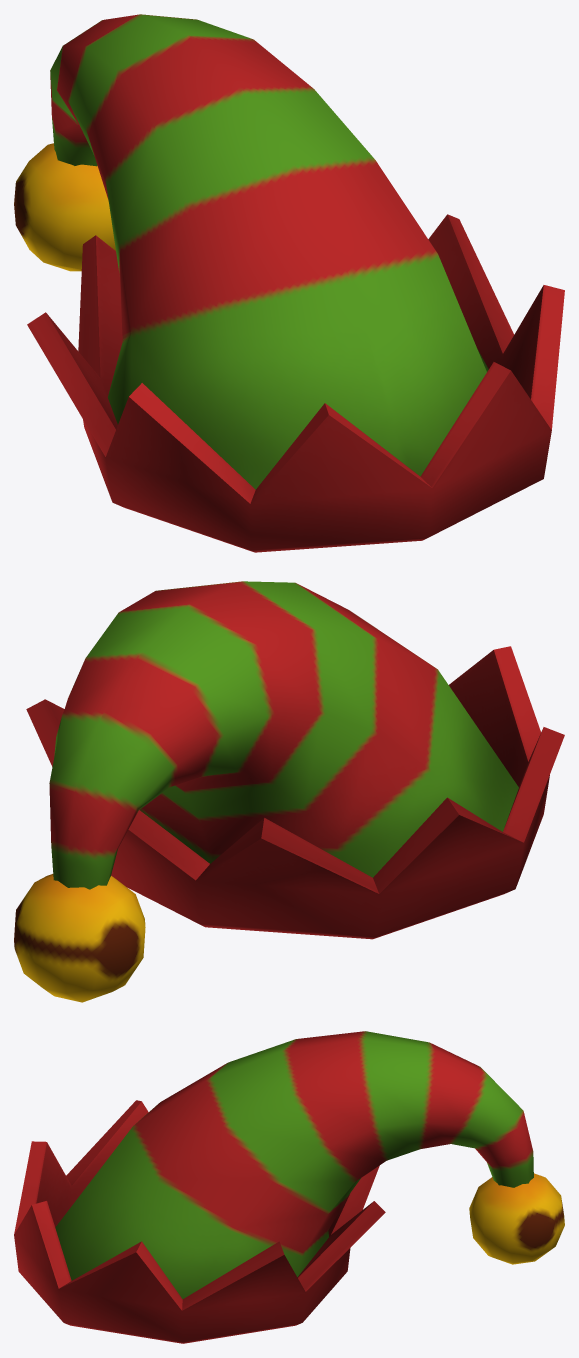
The model's file is ChristmasElf.glb.
The picture shows the model from 3 angles, top to bottom: view 1: azimuth 30°, elevation 25°; view 2: azimuth 150°, elevation 25°; view 3: azimuth 270°, elevation 25°; orthographic projection. The views are drawn at different scales.
Parts seen in each view (by area): view 1: m_ChristmasElfHat01; view 2: m_ChristmasElfHat01; view 3: m_ChristmasElfHat01.
Boxes of the visible parts, x1,y1,x2,y2 form: m_ChristmasElfHat01: [14, 14, 564, 552]; m_ChristmasElfHat01: [14, 581, 564, 1002]; m_ChristmasElfHat01: [14, 1031, 564, 1343].
Bounding box in the file's own units: 0.67 × 0.4899 × 1.03.
1 material, 1 textured.
